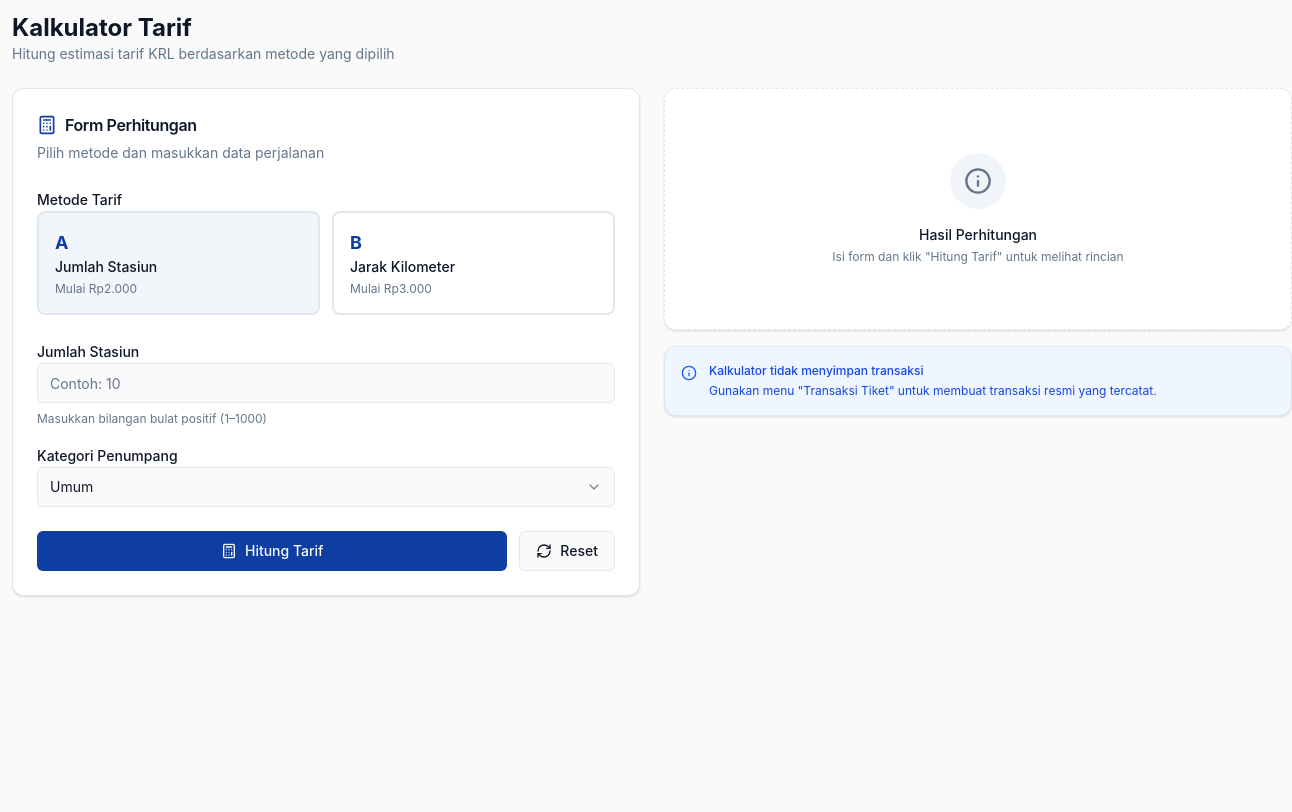
Scenario: UI Testing Suite › FareCalculatorPage — Dynamic Form & Calculation › berpindah ke input kilometer saat metode B dipilih
Click the button "B Jarak Kilometer Mulai Rp3.000".
click(403, 266)  # box [332,211,615,315]
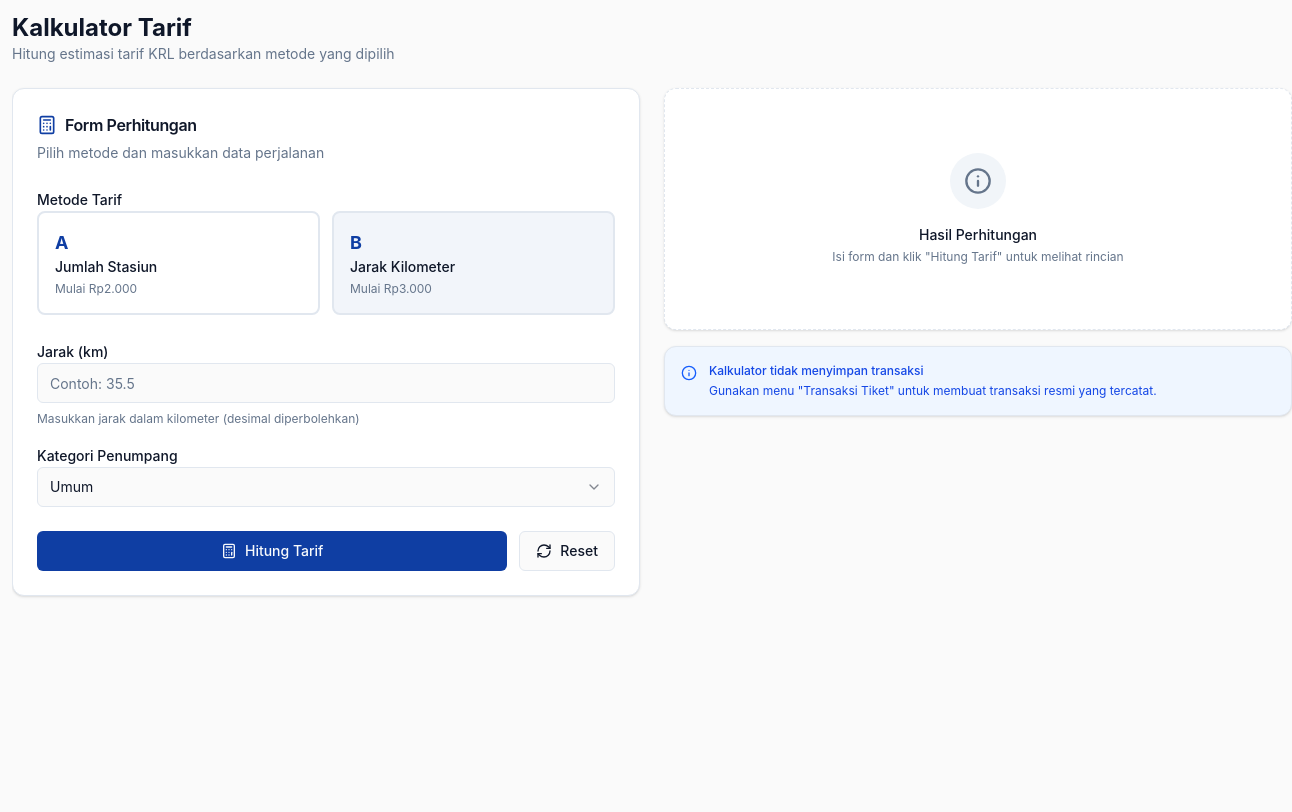
Check: the number field labelled "Jarak (km)" is shown, box [37,363,615,403]
